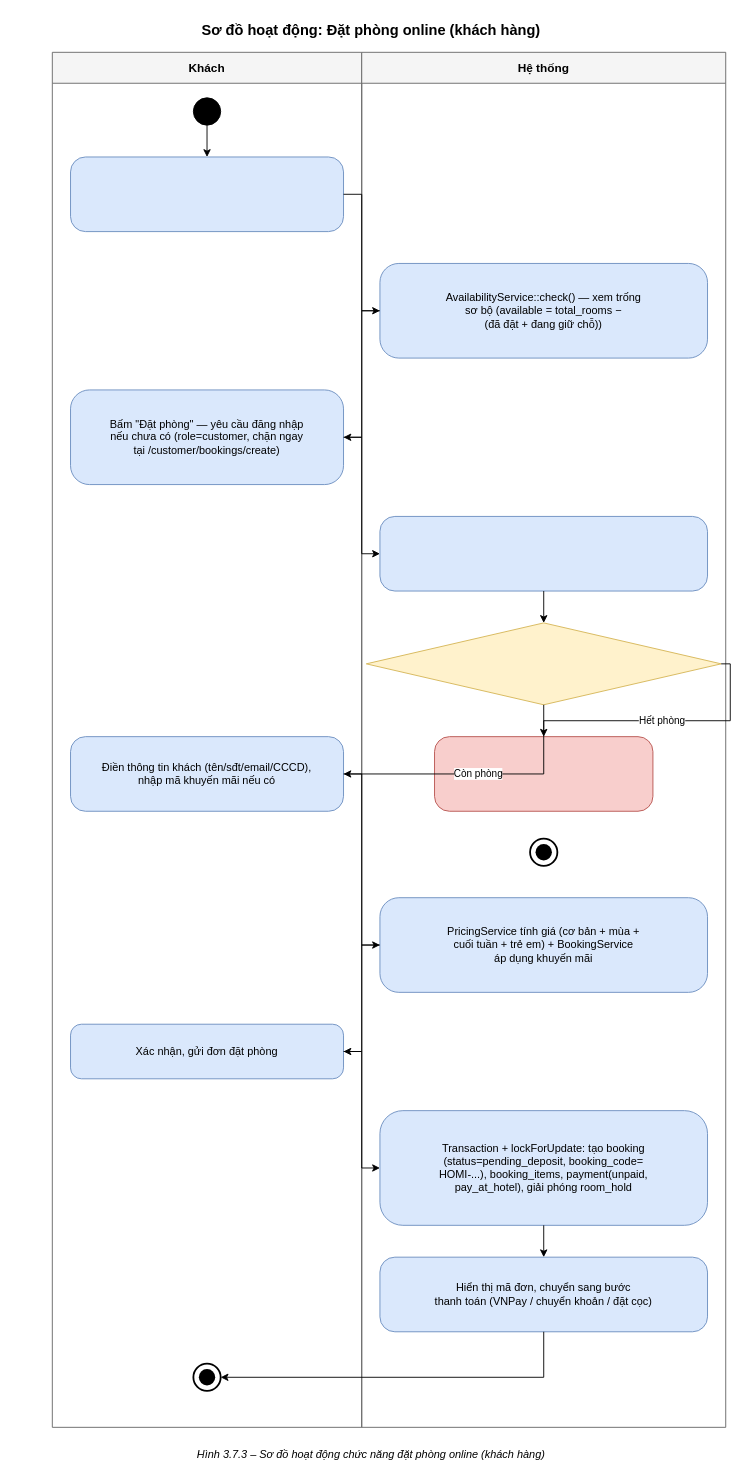
The diagram is 753 pixels wide and 1483 high, and some of its shapes have lost their labels. The shapes that lost their labels are listed below. From the top down, each one's centre as x and y in pixels, then its label:
the point at 207,194: Chọn loại phòng, ngày check-in/out, số khách (trang /rooms, công khai)
the point at 543,553: RoomHoldService: tạo room_hold cho phiên (giữ chỗ tạm 15 phút)
the point at 543,663: Còn đủ phòng?
the point at 543,773: Hết phòng trong khoảng ngày này (không có gợi ý loại phòng khác)
